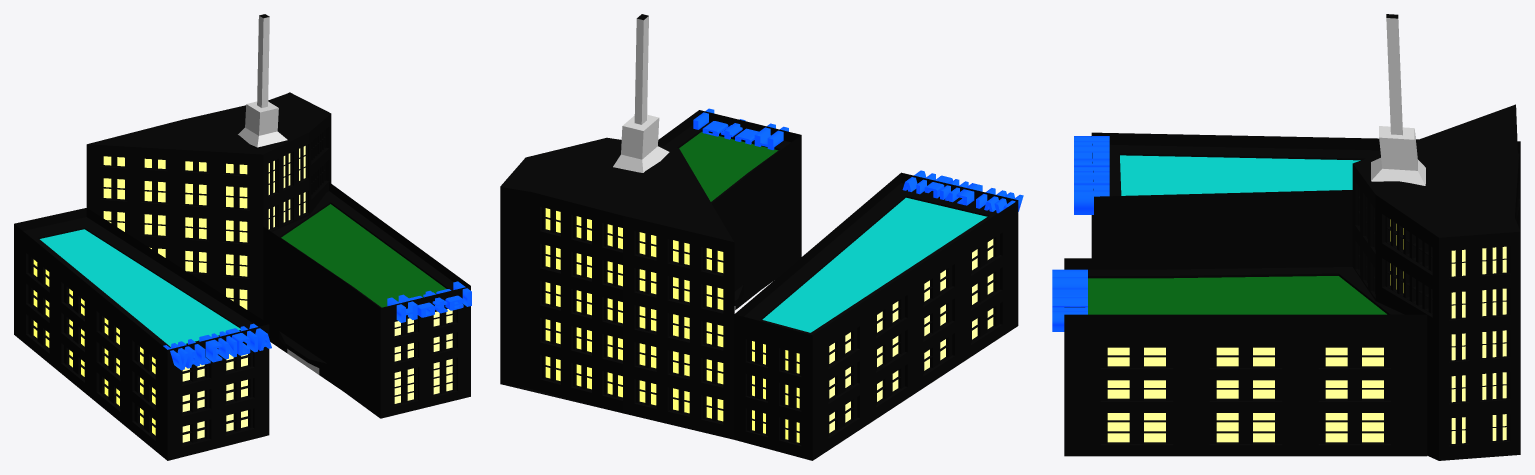
The model's file is valencia_hotel.fbx.
3 views of the same model, side by side, from view 1: azimuth 30°, elevation 25°; view 2: azimuth 150°, elevation 25°; view 3: azimuth 270°, elevation 25° (orthographic). The views are drawn at different scales.
Visible parts, largest first — view 1: Plane, Text.001; view 2: Plane, Text.001; view 3: Plane, Text.001, Text.008.
Part boxes in pixels (x1,y1,x2,y2): Plane: [14, 14, 470, 460]; Text.001: [387, 281, 471, 322]; Plane: [500, 14, 1018, 460]; Text.001: [693, 108, 788, 149]; Plane: [1064, 14, 1520, 460]; Text.001: [1052, 269, 1087, 331]; Text.008: [1074, 190, 1109, 214].
Size of the model in its own units: 4095 by 4007 by 4337.
